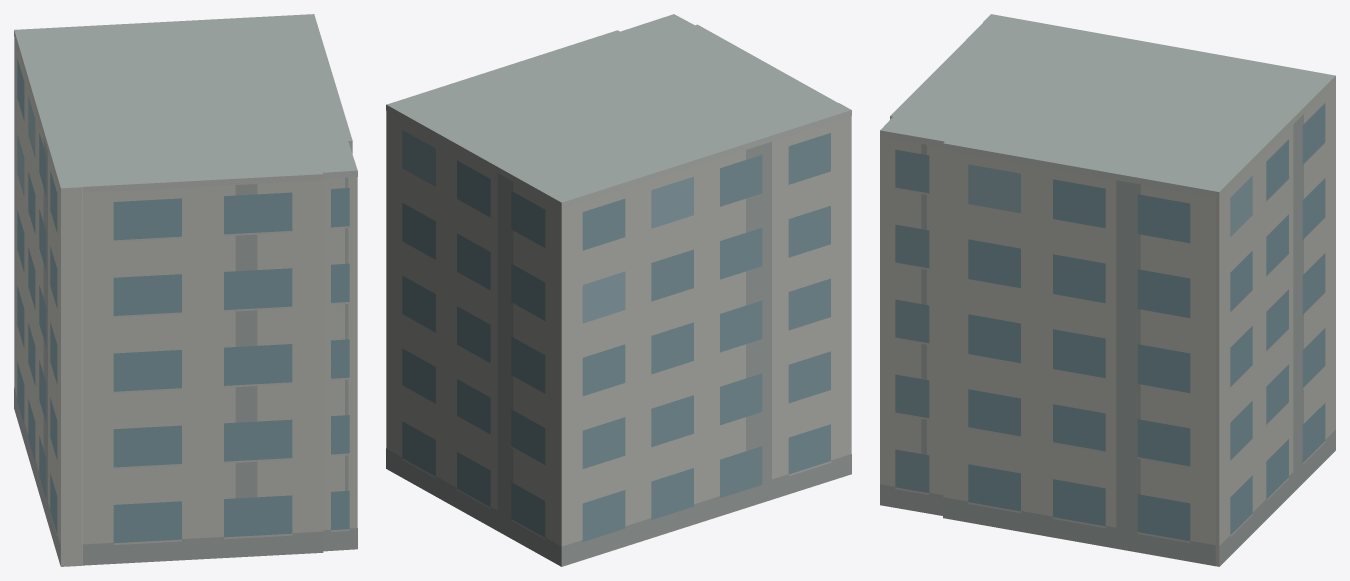
The model's file is survey-upis-32859705.glb.
3 views of the same model, side by side, from view 1: azimuth 30°, elevation 25°; view 2: azimuth 150°, elevation 25°; view 3: azimuth 270°, elevation 25° (orthographic). The views are drawn at different scales.
Parts seen in each view (by area): view 1: survey-upis-32859705.tmp; view 2: survey-upis-32859705.tmp; view 3: survey-upis-32859705.tmp.
Boxes of the visible parts, x1,y1,x2,y2 form: survey-upis-32859705.tmp: (14, 14, 357, 566); survey-upis-32859705.tmp: (386, 14, 851, 566); survey-upis-32859705.tmp: (880, 14, 1335, 566).
Size of the model in its own units: 14.79 by 14.5 by 15.99.
